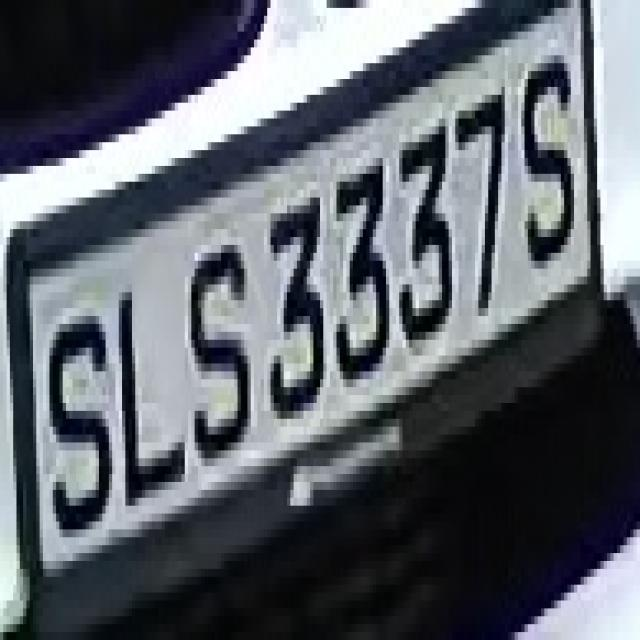3: (320, 142, 396, 403), (389, 102, 459, 348), (261, 142, 320, 419)
7: (455, 95, 518, 324)
L: (102, 261, 185, 521)
S: (511, 8, 581, 300), (43, 277, 109, 561), (182, 213, 248, 482)
